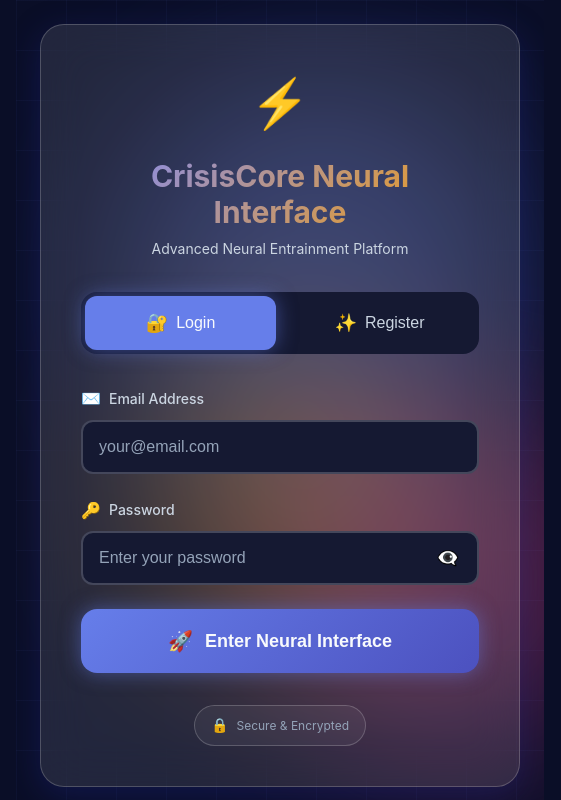
Test: Auth Component › Registration Mode › should show medical disclaimer checkbox
Click the button "✨ Register" at (380,323), box [284, 296, 475, 350]
(page scrolled)
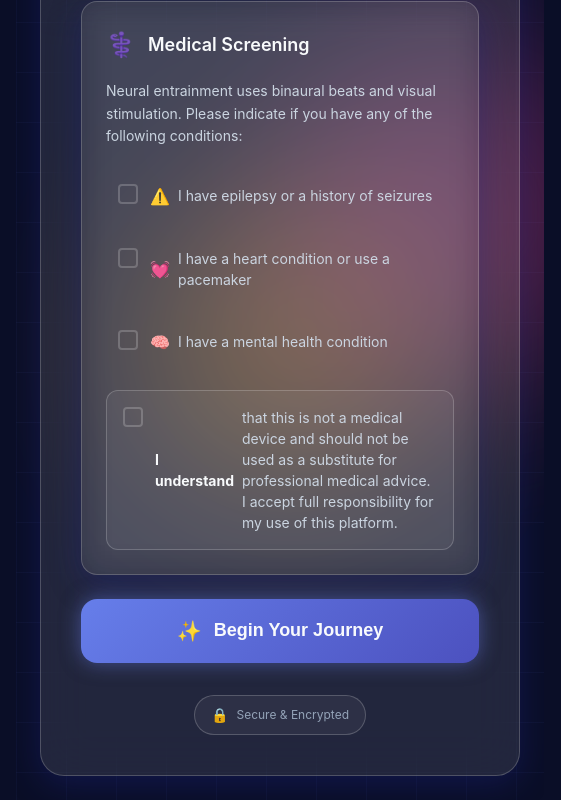
Expected: the checkbox that starts with "I understand" is shown, [106, 390, 454, 550]
